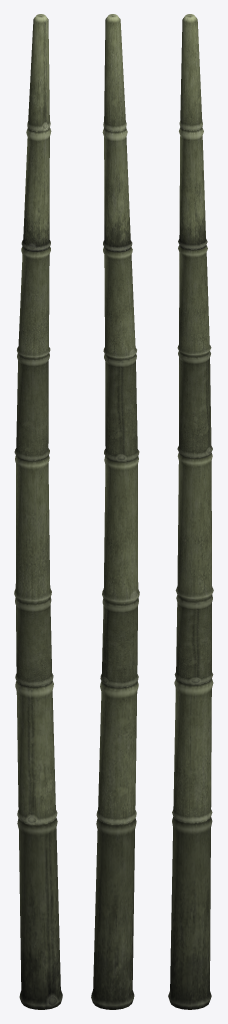
File: BambooSet_part_32.fbx
3 renders of one model, left to right at view 1: azimuth 30°, elevation 25°; view 2: azimuth 210°, elevation 25°; view 3: azimuth 270°, elevation 25°, orthographic.
Visible parts, largest first — view 1: Object_56.001; view 2: Object_56.001; view 3: Object_56.001.
Part boxes in pixels (bbox=[...]): Object_56.001: bbox=[14, 14, 62, 1009]; Object_56.001: bbox=[91, 14, 139, 1009]; Object_56.001: bbox=[168, 14, 213, 1009].
Bounding box in the file's own units: 150 × 3428 × 144.
